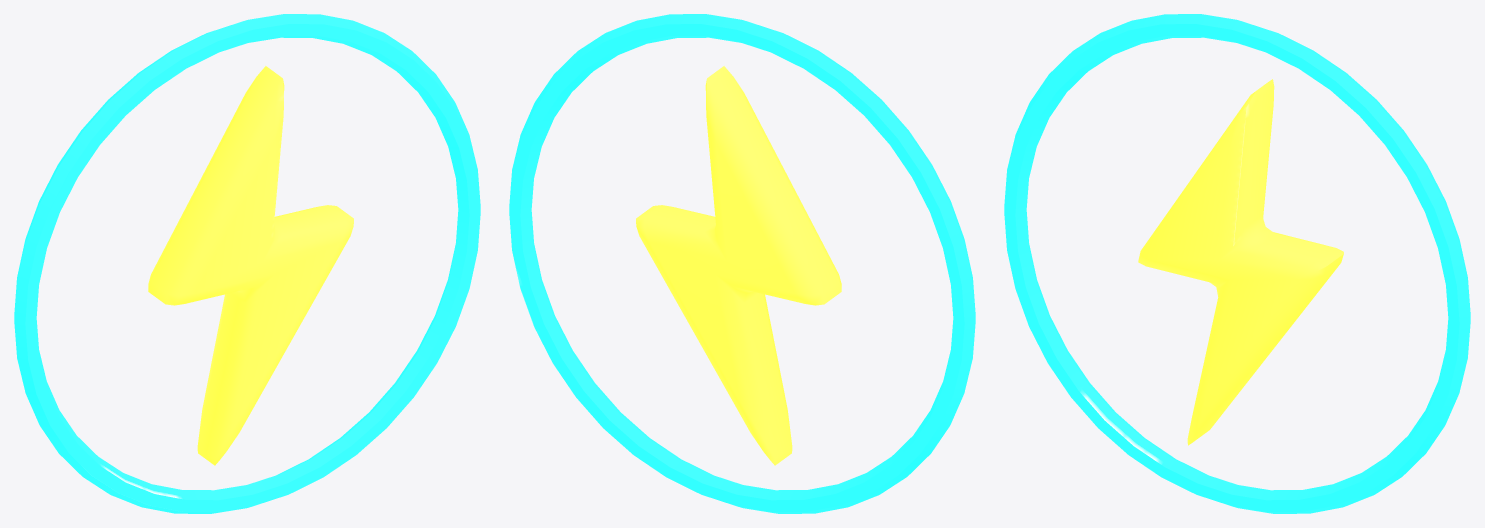
File: rn_powerup_bolt.glb
The picture shows the model from 3 angles, left to right: view 1: azimuth 30°, elevation 25°; view 2: azimuth 150°, elevation 25°; view 3: azimuth 330°, elevation 25°; orthographic projection.
Parts seen in each view (by area): view 1: rn_powerup_bolt; view 2: rn_powerup_bolt; view 3: rn_powerup_bolt.
Part boxes in pixels (box(x1,y1,x2,y2)): rn_powerup_bolt: box(14, 14, 480, 513); rn_powerup_bolt: box(509, 14, 975, 513); rn_powerup_bolt: box(1004, 14, 1470, 513).
Size of the model in its own units: 1.26 by 1.26 by 0.16.
Materials: 2 (2 with a texture image).
